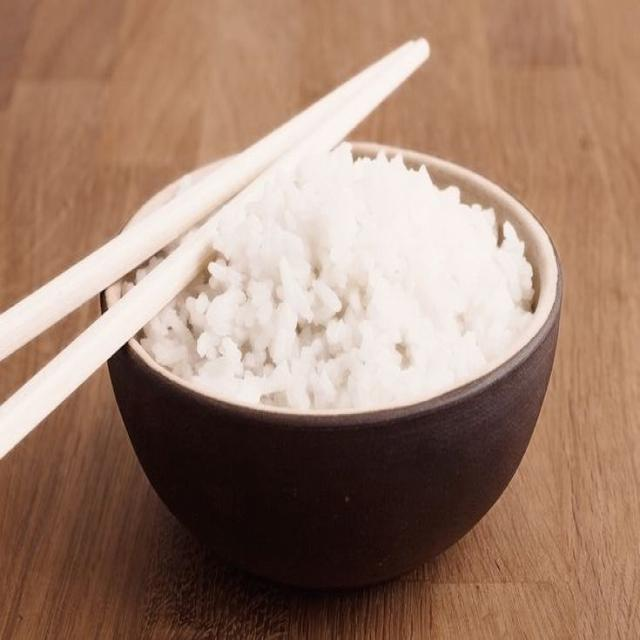rice: (142, 145, 532, 410)
